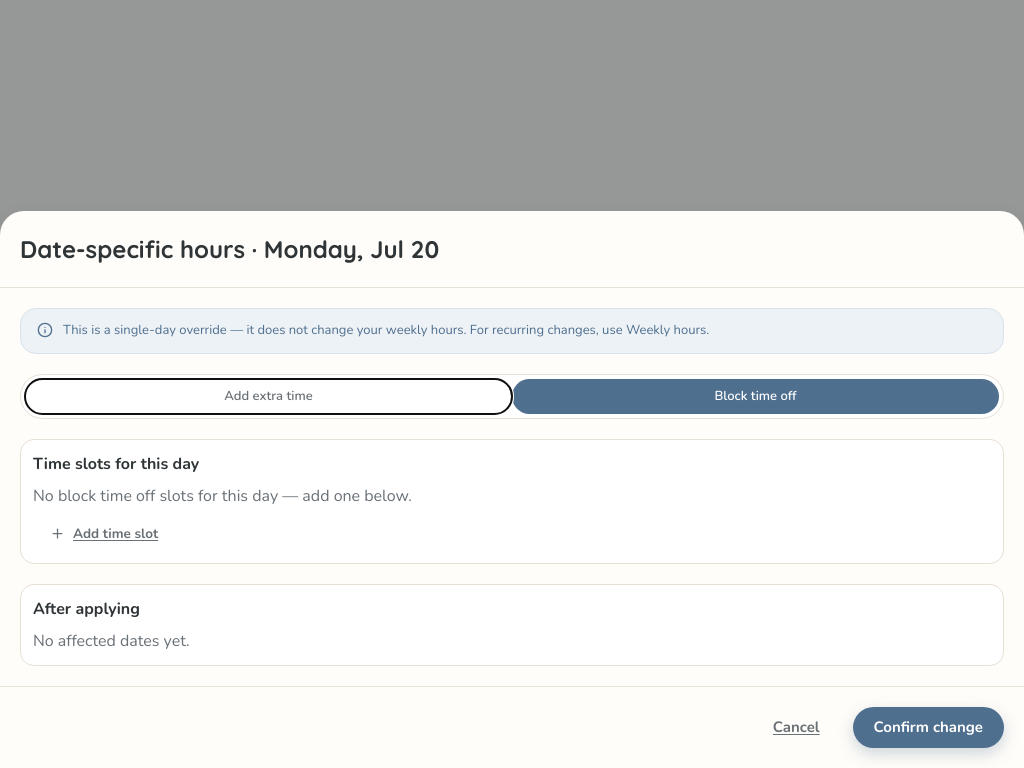
Test: DateOverrideModal — structural validation › a slot whose start is not before its end shows an inline error and disables Confirm
Step 1. Click the button "Add time slot" → (104, 534), box left=33, top=516, right=175, bottom=551
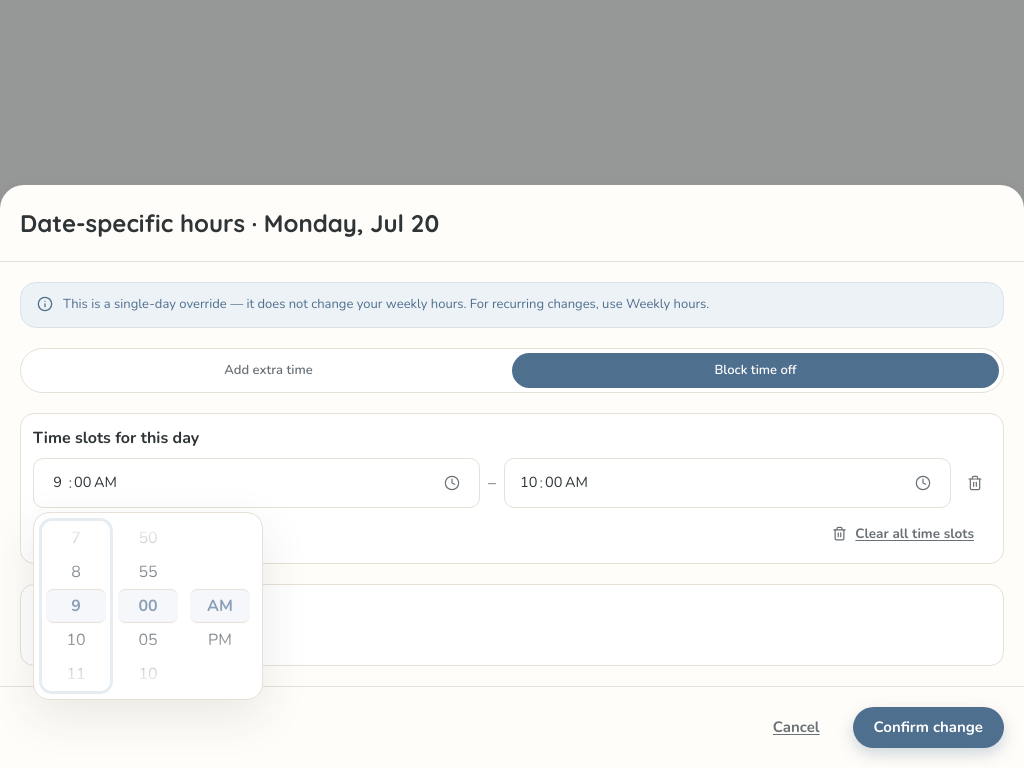
Step 2. Replace the text in the field named "Time slot 1 from hour" with "10" → (58, 483), box left=49, top=472, right=66, bottom=494
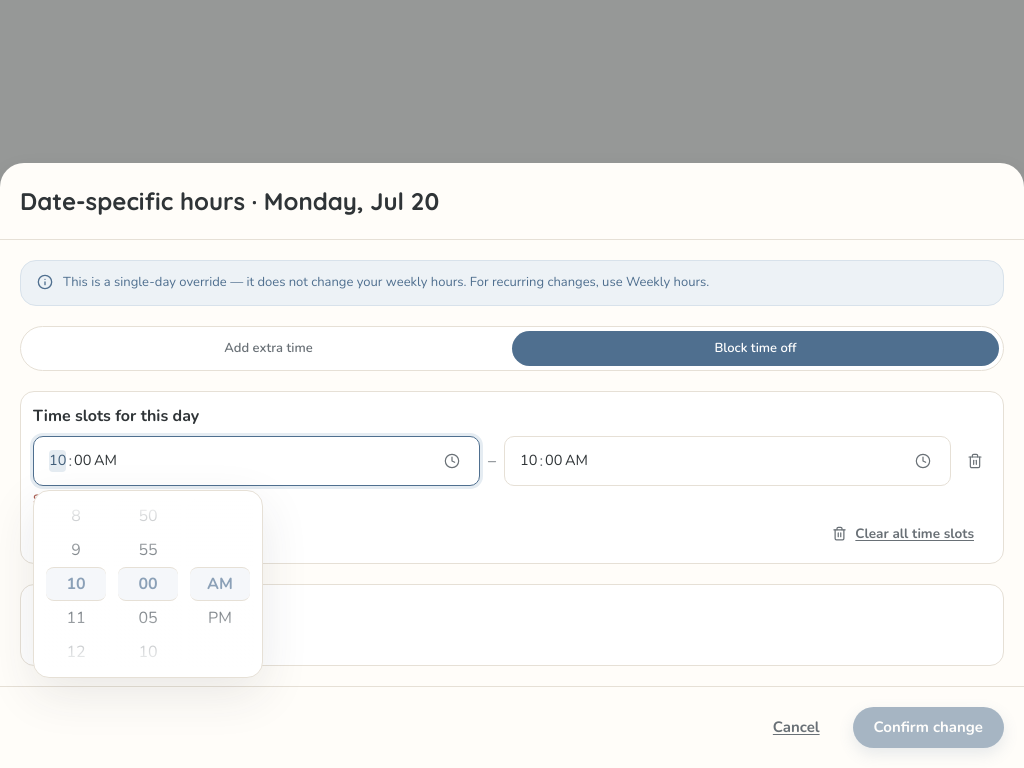
Now the text "Start time must be before the end time." is shown, box left=33, top=491, right=248, bottom=507
Now the button "Confirm change" is disabled, box left=853, top=707, right=1004, bottom=748
